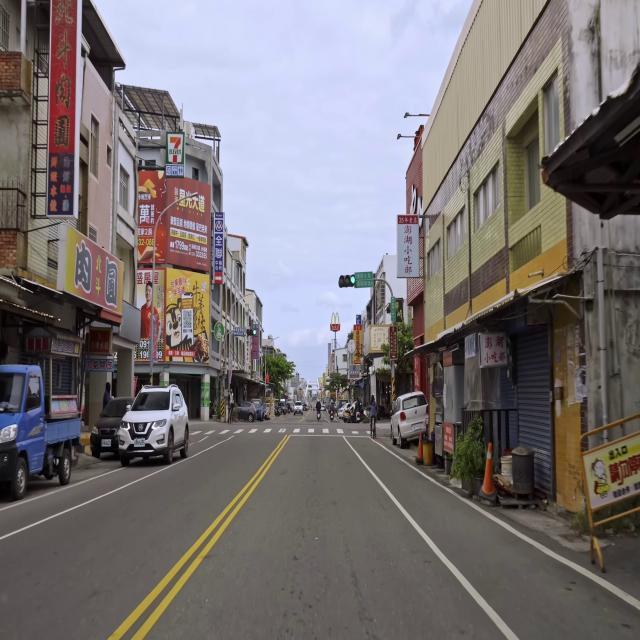green light: (339, 276, 355, 286), (247, 329, 256, 335)
